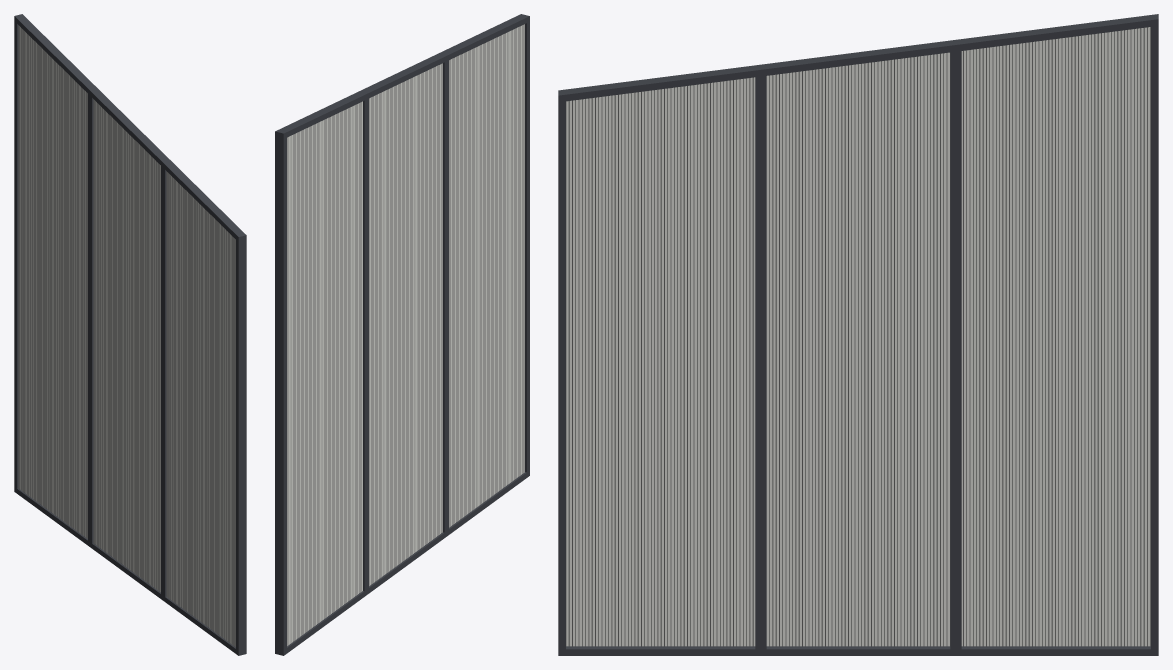
File: nebbiolo_sidewall_left_600_250.glb
3 renders of one model, left to right at view 1: azimuth 30°, elevation 25°; view 2: azimuth 150°, elevation 25°; view 3: azimuth 270°, elevation 25°, orthographic. The views are drawn at different scales.
Visible parts, largest first — view 1: sidewall_left_600_250; view 2: sidewall_left_600_250; view 3: sidewall_left_600_250.
Part boxes in pixels (x1,y1,x2,y2): sidewall_left_600_250: [14, 14, 246, 655]; sidewall_left_600_250: [275, 14, 529, 655]; sidewall_left_600_250: [558, 14, 1158, 655].
Bounding box in the file's own units: 0.05 × 2.85 × 2.44.
2 materials, 2 textured.
